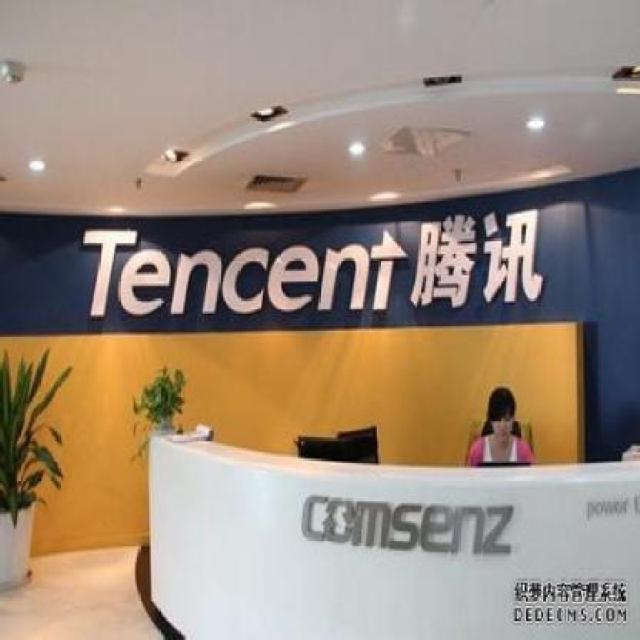frontdesk: (131, 409, 640, 640)
